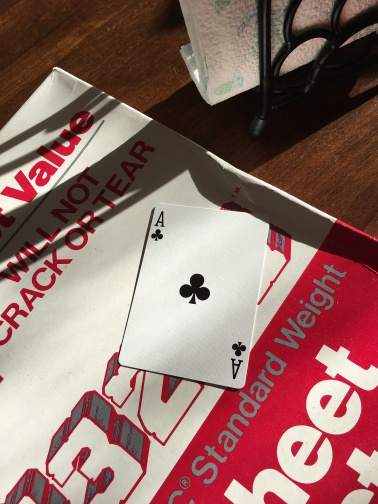ace: (115, 203, 272, 389)
